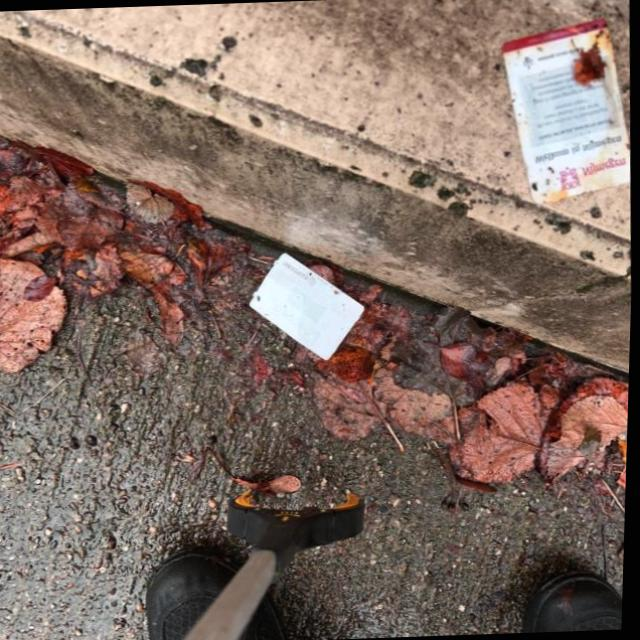Paper: (492, 16, 636, 212), (243, 249, 371, 365)
